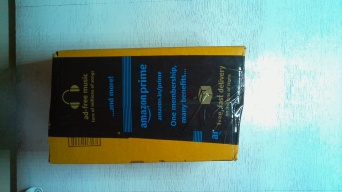a: (46, 37, 245, 174)
